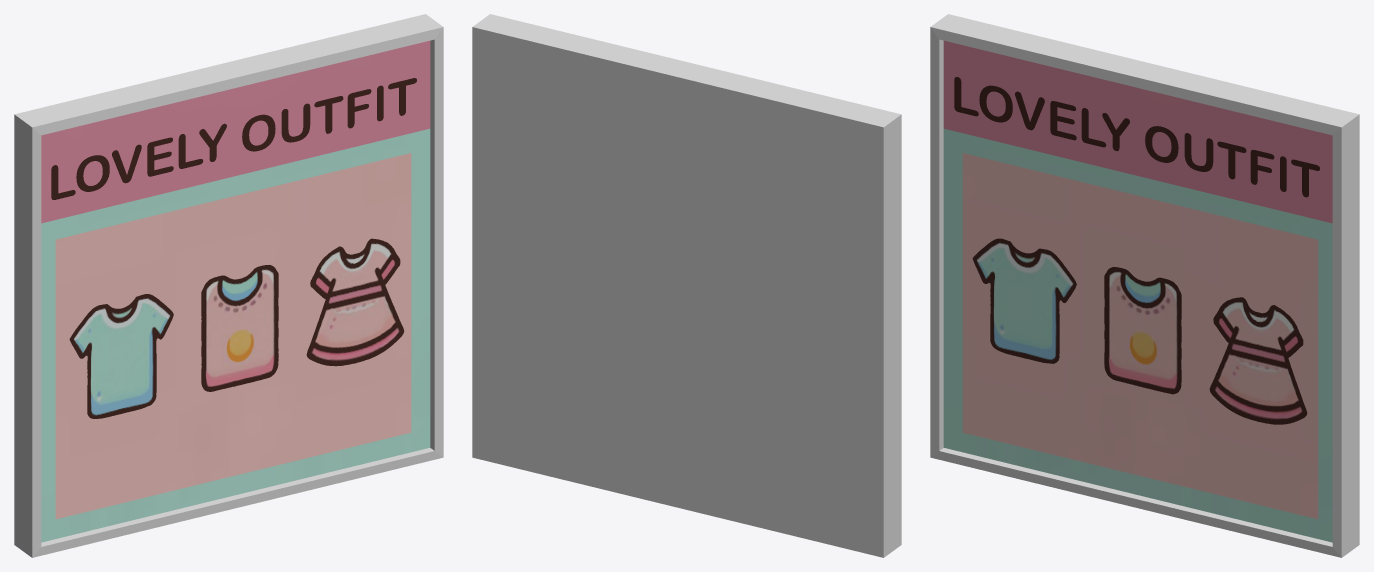
Rendered from Outfit.fbx.
3 views of the same model, side by side, from view 1: azimuth 30°, elevation 25°; view 2: azimuth 150°, elevation 25°; view 3: azimuth 330°, elevation 25° (orthographic).
Visible parts, largest first — view 1: OutfitB, Outfit, OutfitT; view 2: Outfit; view 3: OutfitB, Outfit, OutfitT.
Part boxes in pixels (x1,y1,x2,y2): OutfitB: (41,40,430,542); Outfit: (14,14,443,557); OutfitT: (51,78,416,418); Outfit: (472,14,901,557); OutfitB: (943,40,1332,542); Outfit: (930,14,1359,557); OutfitT: (954,77,1319,424).
Bounding box in the file's own units: 200 × 200 × 15.15.
